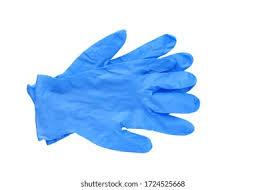Glove: (35, 54, 199, 152), (56, 30, 175, 77)
